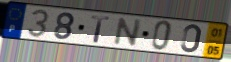0: (151, 20, 175, 53), (180, 23, 204, 54)
3: (24, 8, 51, 39)
8: (53, 11, 76, 41)
N: (112, 17, 144, 48)
T: (90, 14, 112, 44)
